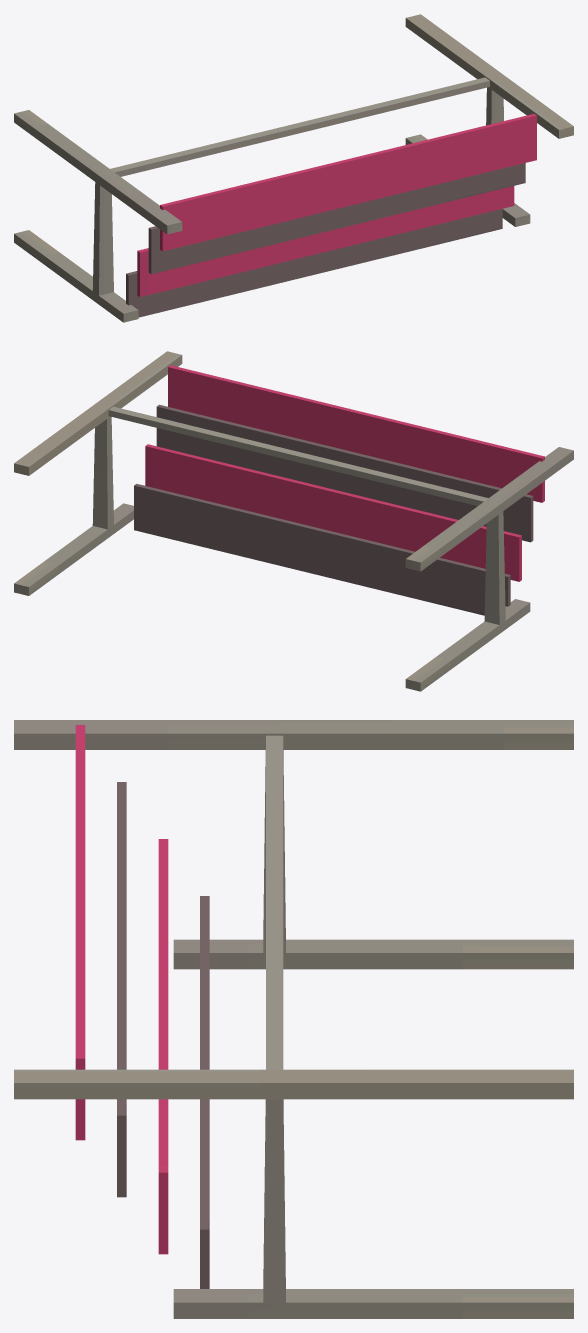
File: 199_sportbench_002.gltf
The picture shows the model from 3 angles, top to bottom: view 1: azimuth 30°, elevation 25°; view 2: azimuth 150°, elevation 25°; view 3: azimuth 270°, elevation 25°; orthographic projection. The views are drawn at different scales.
Visible parts, largest first — view 1: sportbench_002; view 2: sportbench_002; view 3: sportbench_002.
Boxes of the visible parts, x1,y1,x2,y2 form: sportbench_002: (14,14,573,322); sportbench_002: (14,351,573,691); sportbench_002: (14,720,573,1318).
Size of the model in its own units: 14.54 by 4.72 by 9.48.
Materials: 1 (1 with a texture image).
